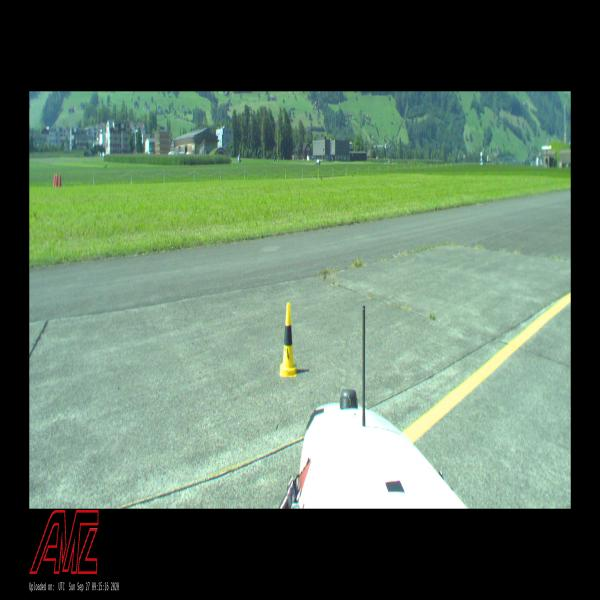yellow_cone: (280, 304, 297, 376)
